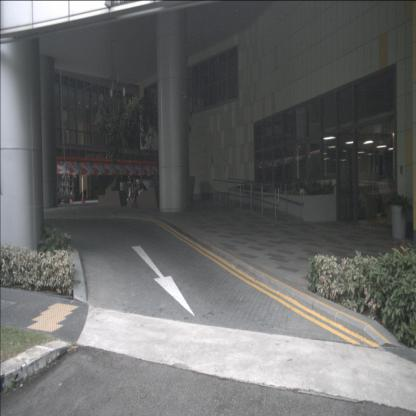human-pedestrian-adult: (131, 176, 138, 208), (127, 175, 132, 203), (138, 184, 145, 199)
movable_object-trafficcone: (81, 189, 86, 203), (70, 190, 74, 204)
